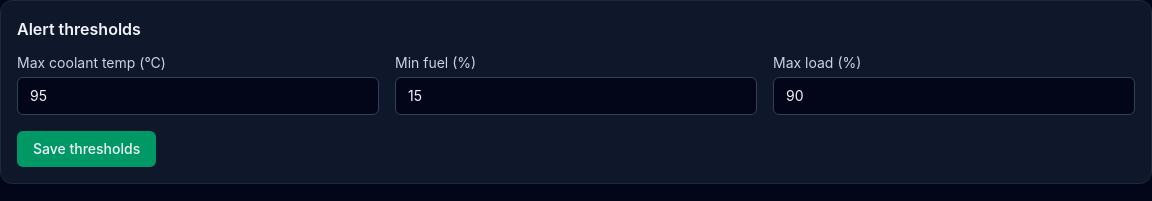
Test: ThresholdsForm › submits valid values and confirms
Replace the text in the number field labelled "Min fuel (%)" with "20" at (576, 96), box x1=395 y1=77 x2=757 y2=115
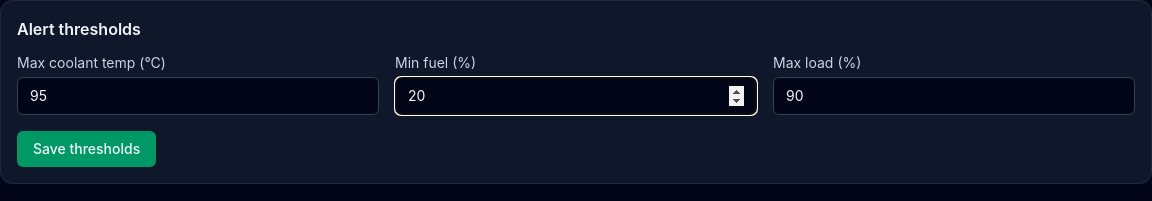
Click the button "Save thresholds".
click(87, 149)  # box x1=17 y1=131 x2=156 y2=167
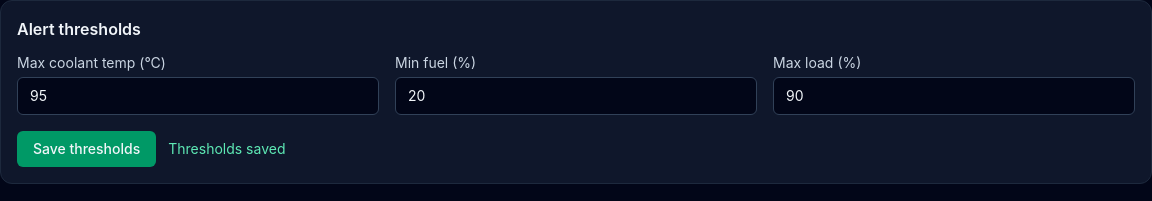
Check: the text "Thresholds saved" is shown, box x1=168 y1=139 x2=286 y2=159
